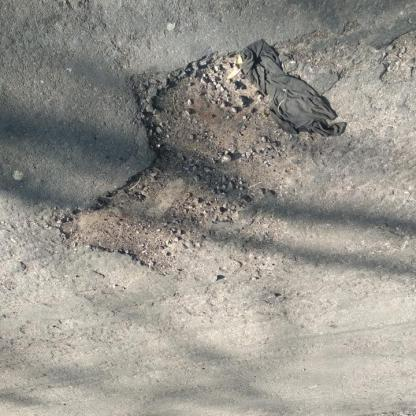pothole: (55, 47, 312, 278)
